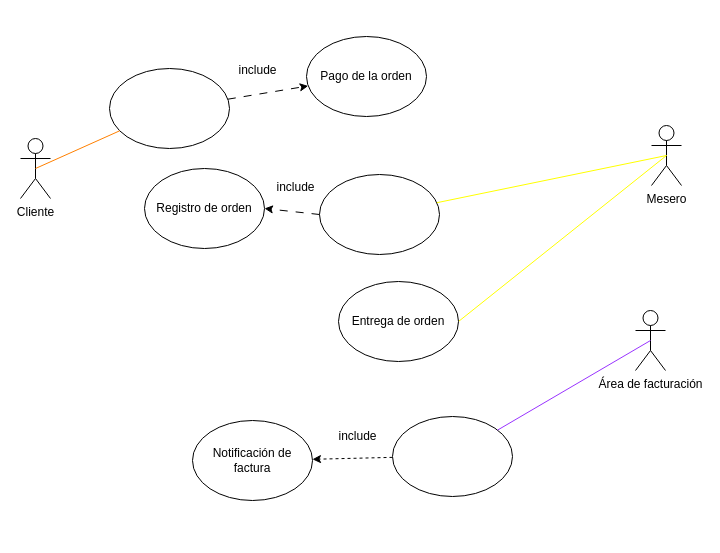
This 720x553 diagram has some shape labels left out. Here are the shapes that lost their labels. From the top down, the centre of each, then its label:
(x=169, y=108): Orden de pedido
(x=379, y=214): Toma de orden
(x=452, y=456): Generación de factura
